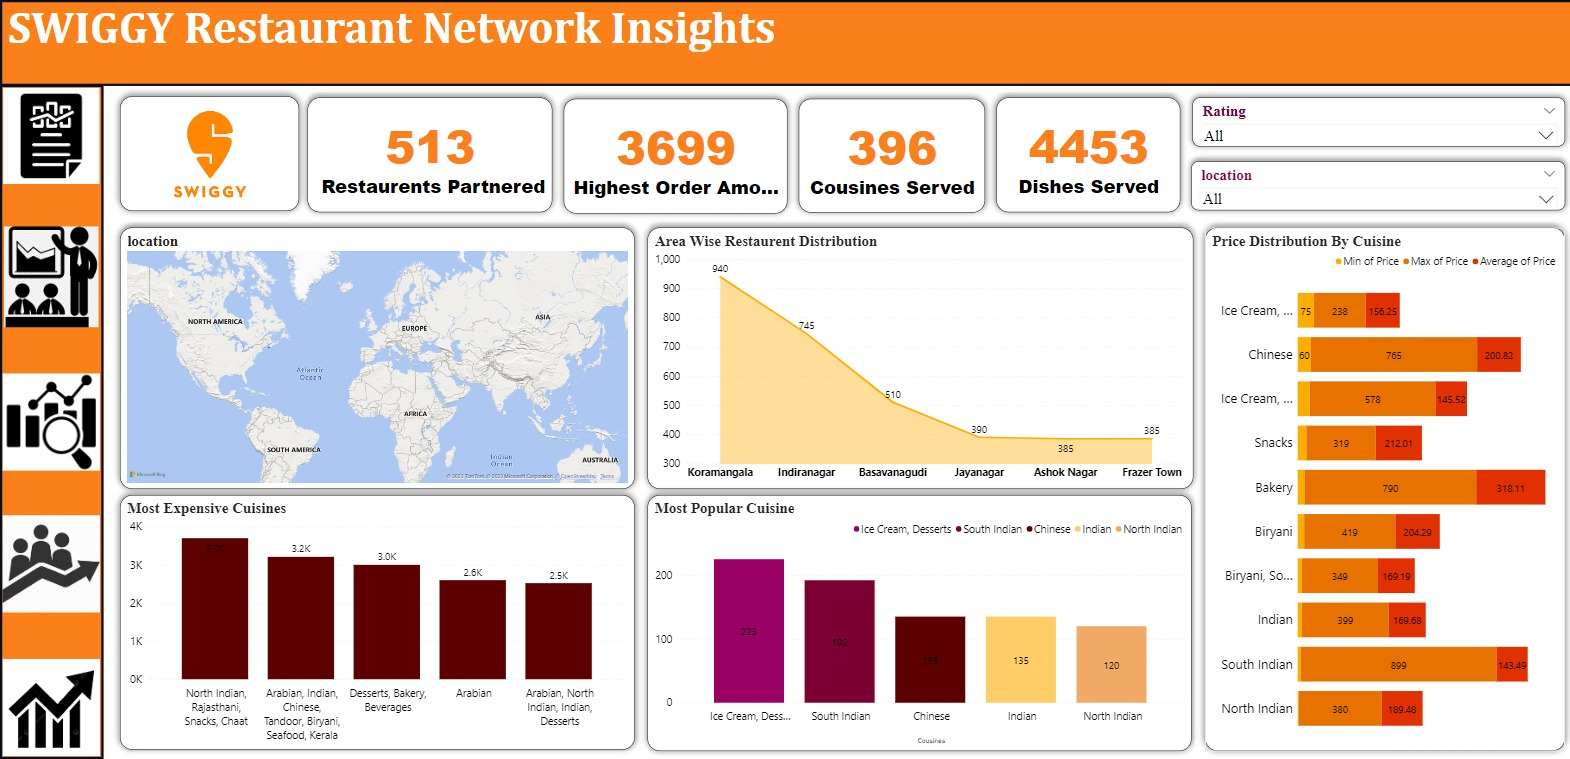

The page's visual inventory and layout, read from the dashboard file:
{"tool":"powerbi","page":{"name":"Page 1","canvas":[2800,1350],"ordinal":0},"visuals":[{"type":"card","fields":{"Values":["Count(main_data.Restaurant_id)"]},"box":[545.8,172.9,435.4,204.2],"z":0},{"type":"shape","box":[0,0,2800,152.5],"z":1000},{"type":"slicer","fields":{"Values":["main_data.Rating"]},"box":[2120,172.5,662.5,87.5],"z":2000},{"type":"shape","box":[0,152,184,1198],"z":3000},{"type":"image","box":[0,151.1,183,180.9],"z":4000},{"type":"image","box":[0,1167.5,182.5,182.5],"z":5000},{"type":"image","box":[0,397.9,183,189.4],"z":6000},{"type":"image","box":[0,900,183,204.3],"z":7000},{"type":"image","box":[0,651.1,183,197.9],"z":8000},{"type":"filledMap","fields":{"Category":["main_data.location"]},"box":[212.5,405,915,465],"z":9000},{"type":"card","fields":{"Values":["Count(main_data.dish_name)"]},"box":[1770.8,172.9,327.1,204.2],"z":10000},{"type":"card","fields":{"Values":["Max(main_data.Price)"]},"box":[1002.1,175,397.9,204.2],"z":11000},{"type":"card","fields":{"Values":["Count(main_data.Cousines)"]},"box":[1420.8,175,331.2,202.1],"z":12000},{"type":"areaChart","title":"Area Wise Restaurent Distribution","fields":{"Category":["main_data.location"],"Y":["CountNonNull(main_data.Restaurant_id)"]},"box":[1150,405,970,465],"z":13000},{"type":"columnChart","title":"Most Expensive Cuisines","fields":{"Category":["main_data.Cousines"],"Y":["Max(main_data.Price)"]},"box":[212.5,880,915,452.5],"z":14000},{"type":"columnChart","title":"Most Popular Cuisine","fields":{"Y":["CountNonNull(main_data.Restaurant_id)"],"Category":["main_data.Cousines"],"Series":["main_data.Cousines"]},"box":[1150,880,967.5,455],"z":15000},{"type":"slicer","fields":{"Values":["main_data.location"]},"box":[2117.5,287.5,665,87.5],"z":16000},{"type":"barChart","title":"Price Distribution By Cuisine","fields":{"Category":["main_data.Cousines"],"Y":["Min(main_data.Price)","Max(main_data.Price)","Avg(main_data.Price)"]},"box":[2142.5,405,640,930],"z":16001},{"type":"image","box":[212.5,170.8,318.8,204.2],"z":16002}]}

Visuals, with their boxes in screenshot pixels (x1, y1, x2, y2), scaled from the page's 2800x1350 canvas onto the 1570x759 screenshot:
card - Count(main_data.Restaurant_id): bbox=[306, 97, 550, 212]
shape: bbox=[0, 0, 1569, 86]
slicer - main_data.Rating: bbox=[1189, 97, 1560, 146]
shape: bbox=[0, 85, 103, 758]
image: bbox=[0, 85, 103, 187]
image: bbox=[0, 656, 102, 758]
image: bbox=[0, 224, 103, 330]
image: bbox=[0, 506, 103, 621]
image: bbox=[0, 366, 103, 477]
filledMap - main_data.location: bbox=[119, 228, 632, 489]
card - Count(main_data.dish_name): bbox=[993, 97, 1176, 212]
card - Max(main_data.Price): bbox=[562, 98, 785, 213]
card - Count(main_data.Cousines): bbox=[797, 98, 982, 212]
"Area Wise Restaurent Distribution" areaChart: bbox=[645, 228, 1189, 489]
"Most Expensive Cuisines" columnChart: bbox=[119, 495, 632, 749]
"Most Popular Cuisine" columnChart: bbox=[645, 495, 1187, 751]
slicer - main_data.location: bbox=[1187, 162, 1560, 211]
"Price Distribution By Cuisine" barChart: bbox=[1201, 228, 1560, 751]
image: bbox=[119, 96, 298, 211]
